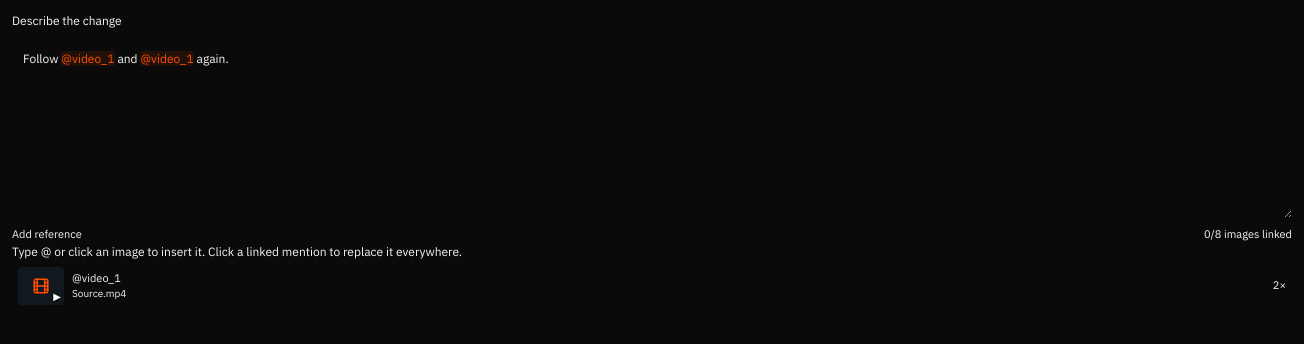
Test case: recognizes the selected source video without sending it through the image picker
Click the button "▶ @video_1 Source.mp4 2×" at (41, 286), box x1=12 y1=260 x2=1292 y2=310
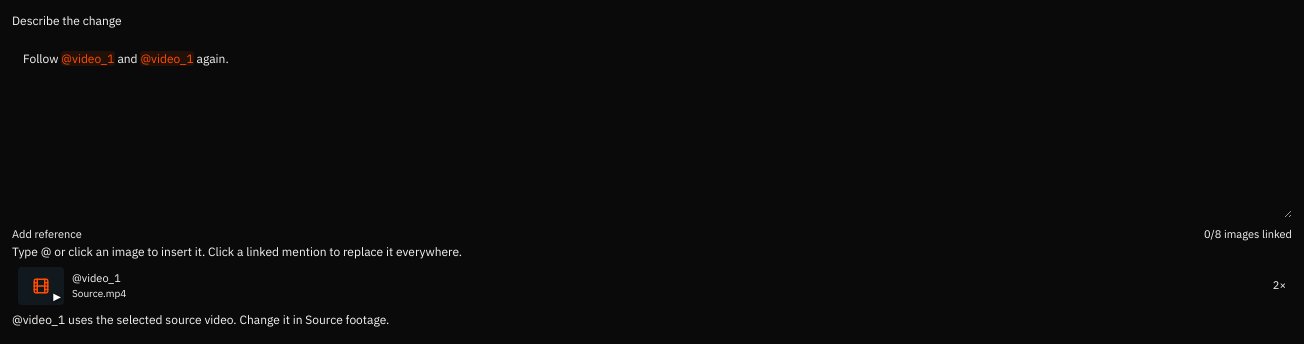
Now the message shows "selected source video", box x1=12 y1=312 x2=389 y2=326
